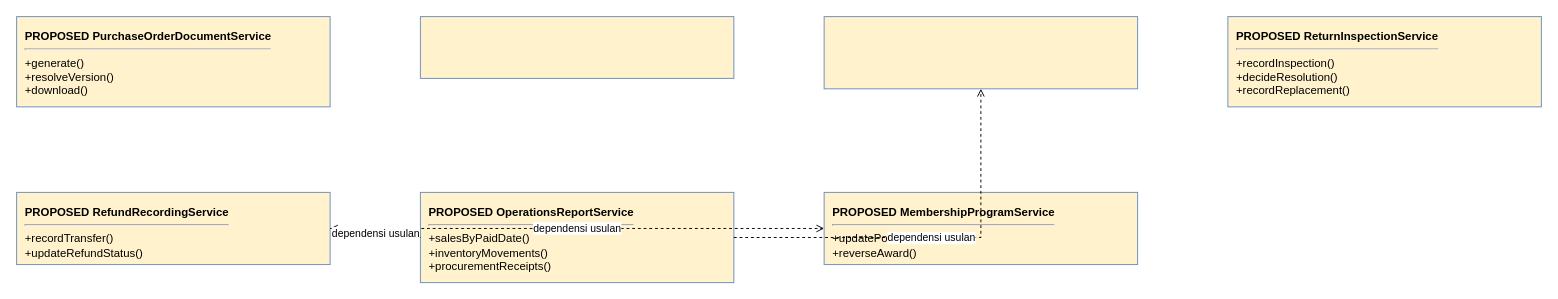
This 1558x299 diagram has some shape labels left out. The shapes that lost their labels are listed below. From the top down, each one's box as (x1, y1, x2, y2) in pixels, then its label:
(419, 16, 734, 78): PROPOSED SupplierConfirmationService +recordExternalConfirmation()
(823, 16, 1138, 89): PROPOSED ProcurementReceiptService +recordReceipt() +postInventory()
